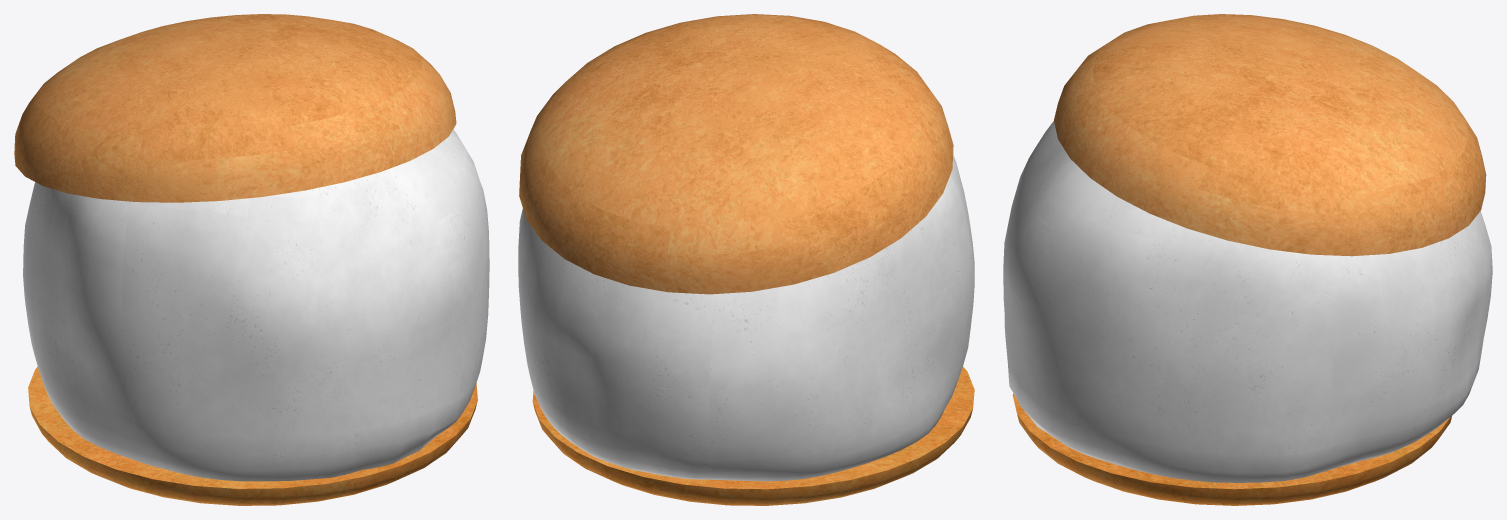
Rendered from mari.fbx.
3 renders of one model, left to right at view 1: azimuth 30°, elevation 25°; view 2: azimuth 150°, elevation 25°; view 3: azimuth 270°, elevation 25°, orthographic.
Parts seen in each view (by area): view 1: cream, pan1, pan2; view 2: pan1, cream, pan2; view 3: cream, pan1, pan2.
Boxes of the visible parts, left/top/right/bottom form: cream: left=23, top=129, right=489, bottom=481; pan1: left=14, top=14, right=456, bottom=202; pan2: left=28, top=367, right=477, bottom=505; pan1: left=519, top=14, right=953, bottom=294; cream: left=518, top=155, right=974, bottom=481; pan2: left=532, top=367, right=974, bottom=505; cream: left=1003, top=121, right=1492, bottom=482; pan1: left=1054, top=14, right=1486, bottom=256; pan2: left=1012, top=393, right=1451, bottom=505.
Bounding box in the file's own units: 156 × 150 × 170.
